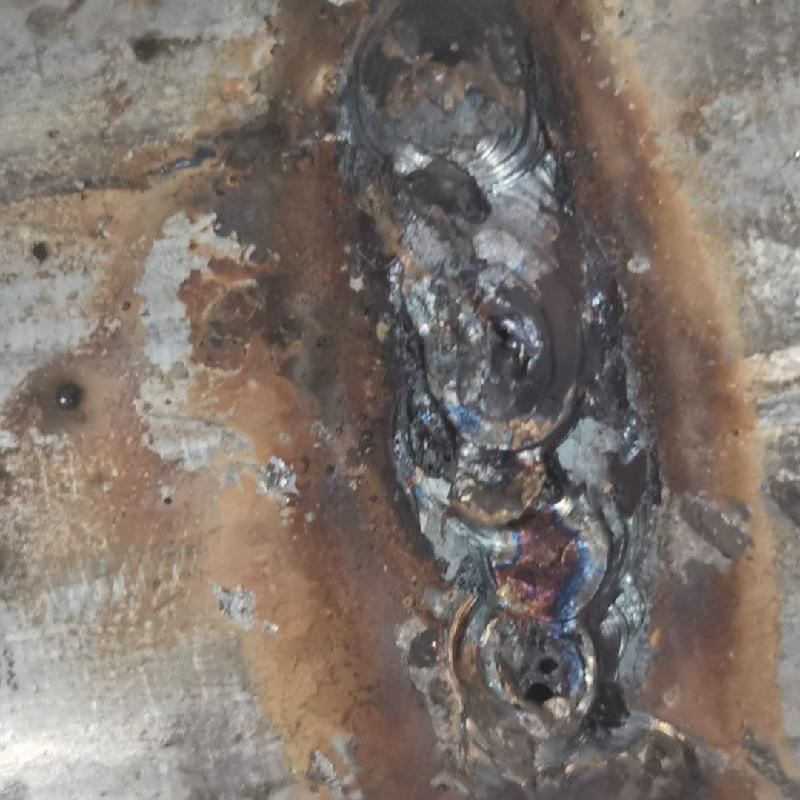Surface_pores: (507, 639, 582, 717), (478, 296, 538, 369)
crater: (366, 207, 608, 728)
wrong_size: (343, 2, 556, 200)
